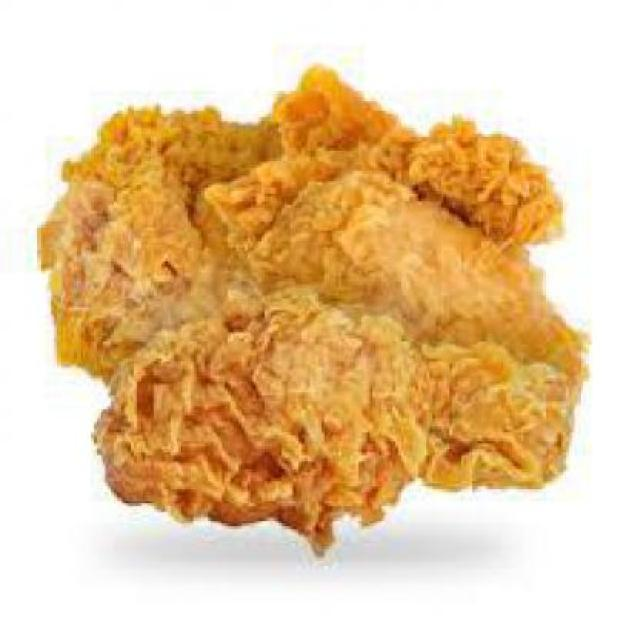Chicken -Fried Chicken-: (36, 65, 588, 562)
